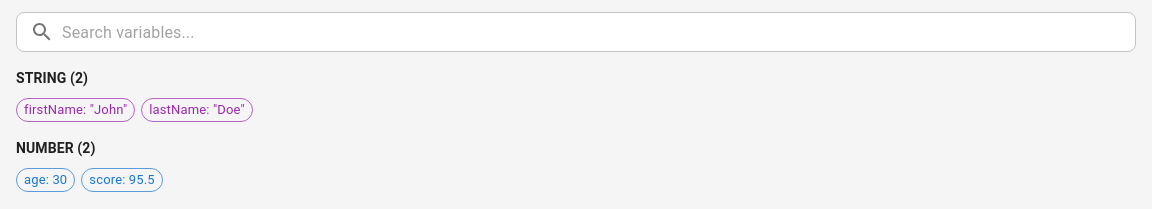
Test: CustomVariablePanel › search functionality › should filter variables by name
The image size is (1152, 209).
In the field with placeholder "Search variables...": (599, 32) [62, 12, 1136, 52], type "name"
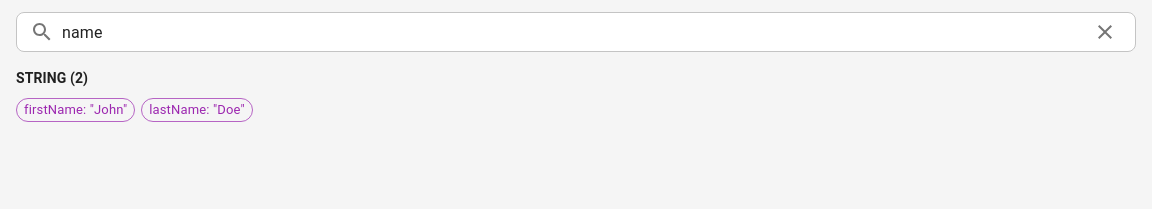
Expected: the text "firstName: \"John\"" is shown, [17, 100, 134, 120]
Now the button "age: 30" is gone
